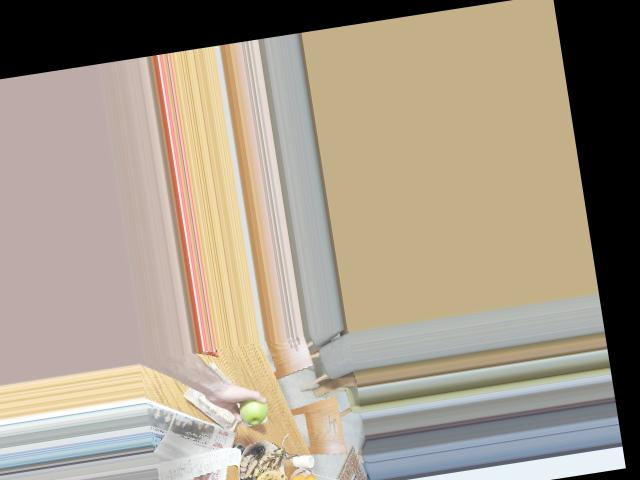apple: (233, 389, 273, 427)
